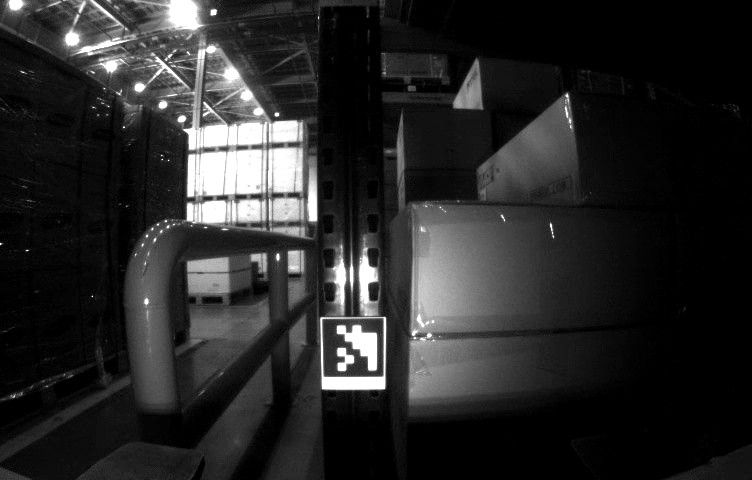True Barcode: (434, 235, 468, 270)
